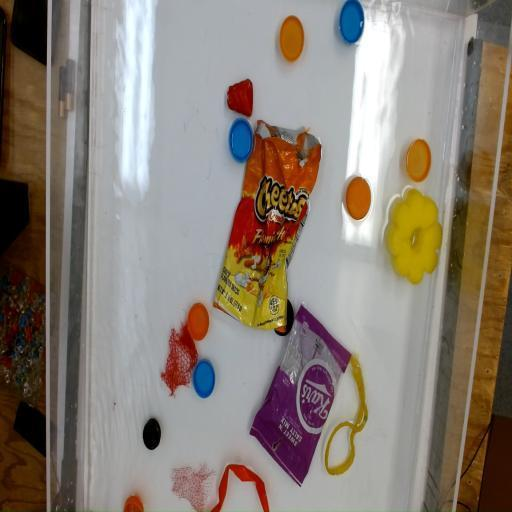Bottle Cap: (279, 14, 305, 62), (228, 116, 254, 162), (345, 174, 371, 220), (339, 0, 366, 44), (407, 138, 431, 184), (188, 302, 208, 344), (194, 360, 216, 398), (142, 418, 162, 451), (124, 493, 143, 512)
Cone Cap: (226, 76, 255, 116)
Netting: (160, 320, 198, 396), (171, 462, 217, 512)
Plastic Bag: (212, 118, 322, 330), (248, 300, 353, 489)
Plastic Strand: (323, 349, 369, 475), (212, 464, 270, 512)
Sponge: (384, 186, 442, 285)
